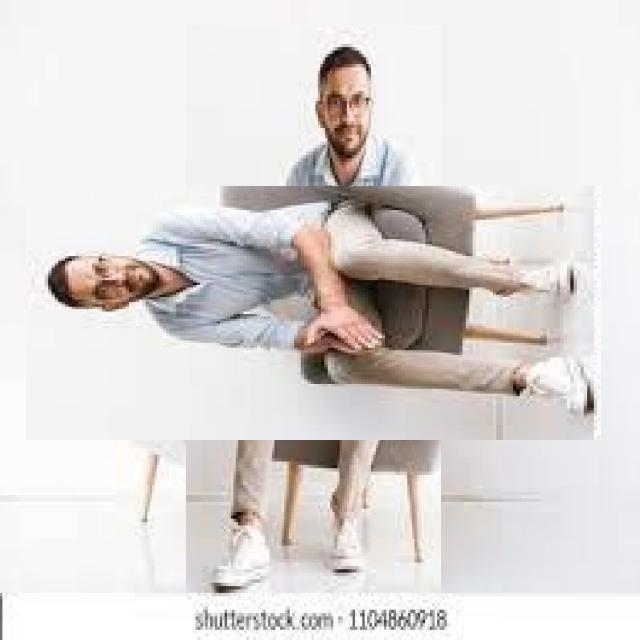NotFall: (26, 160, 633, 462)
